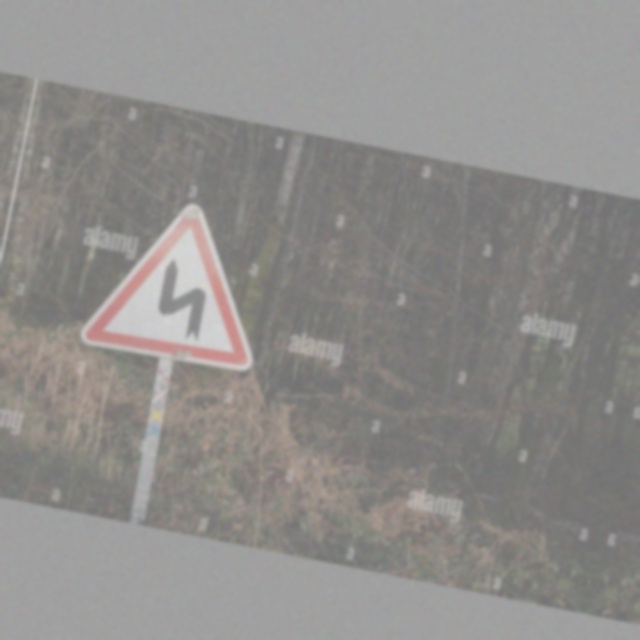Left_Reverse_Bend: (70, 177, 287, 383)
